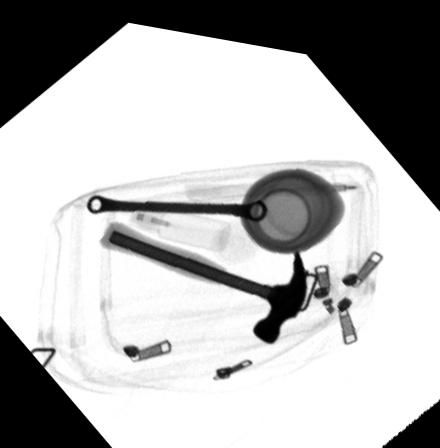Hammer: (101, 216, 307, 334)
Wrench: (84, 188, 269, 216)
